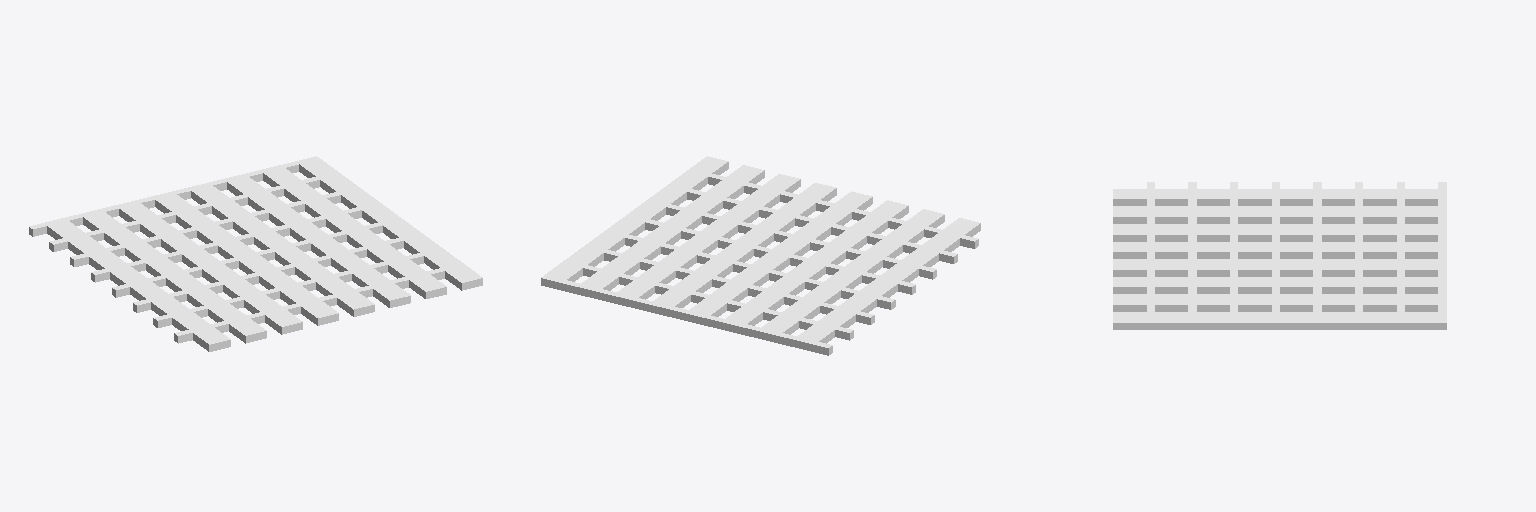
File: floorgrating.obj
3 views of the same model, side by side, from view 1: azimuth 30°, elevation 25°; view 2: azimuth 150°, elevation 25°; view 3: azimuth 270°, elevation 25° (orthographic).
Bounding box in the file's own units: 40 × 1 × 40.